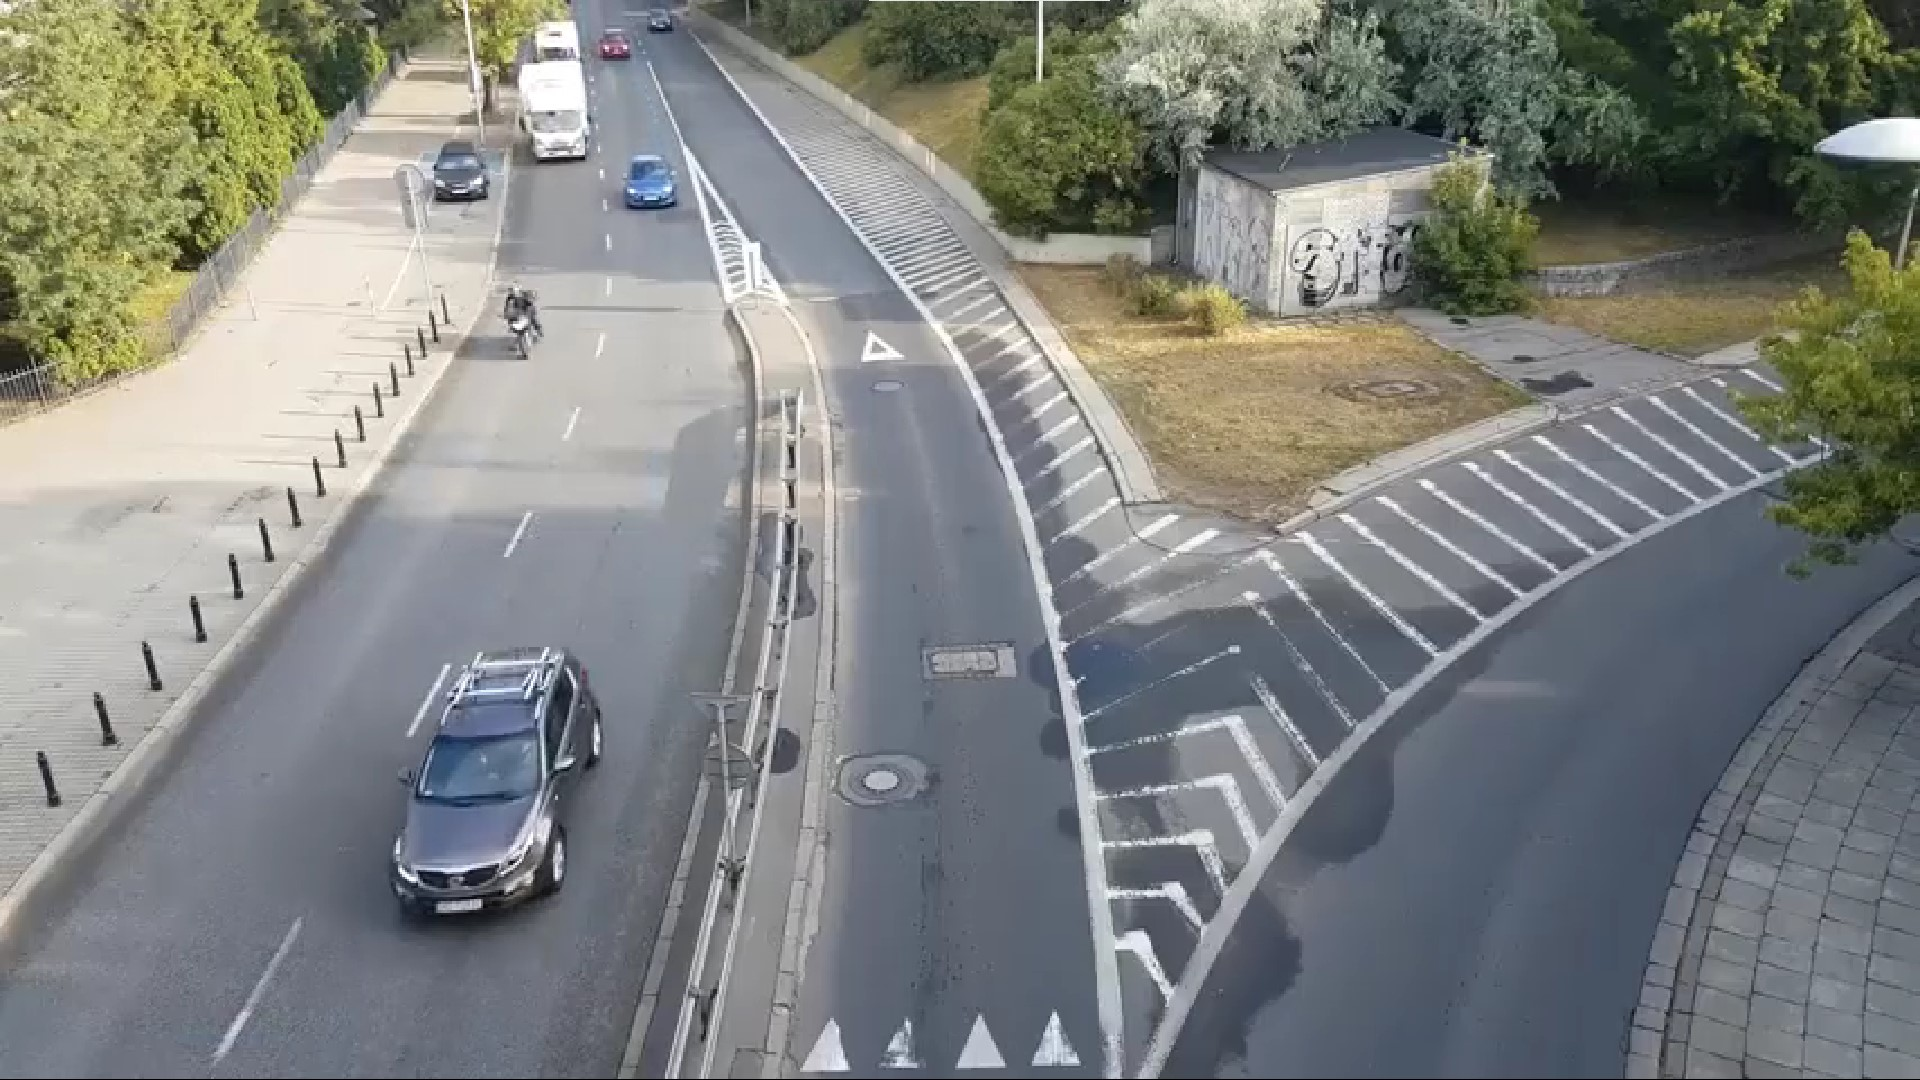mobil: (378, 641, 605, 923), (427, 140, 492, 204), (621, 153, 679, 211), (595, 26, 633, 65)
motor: (502, 277, 550, 361)
